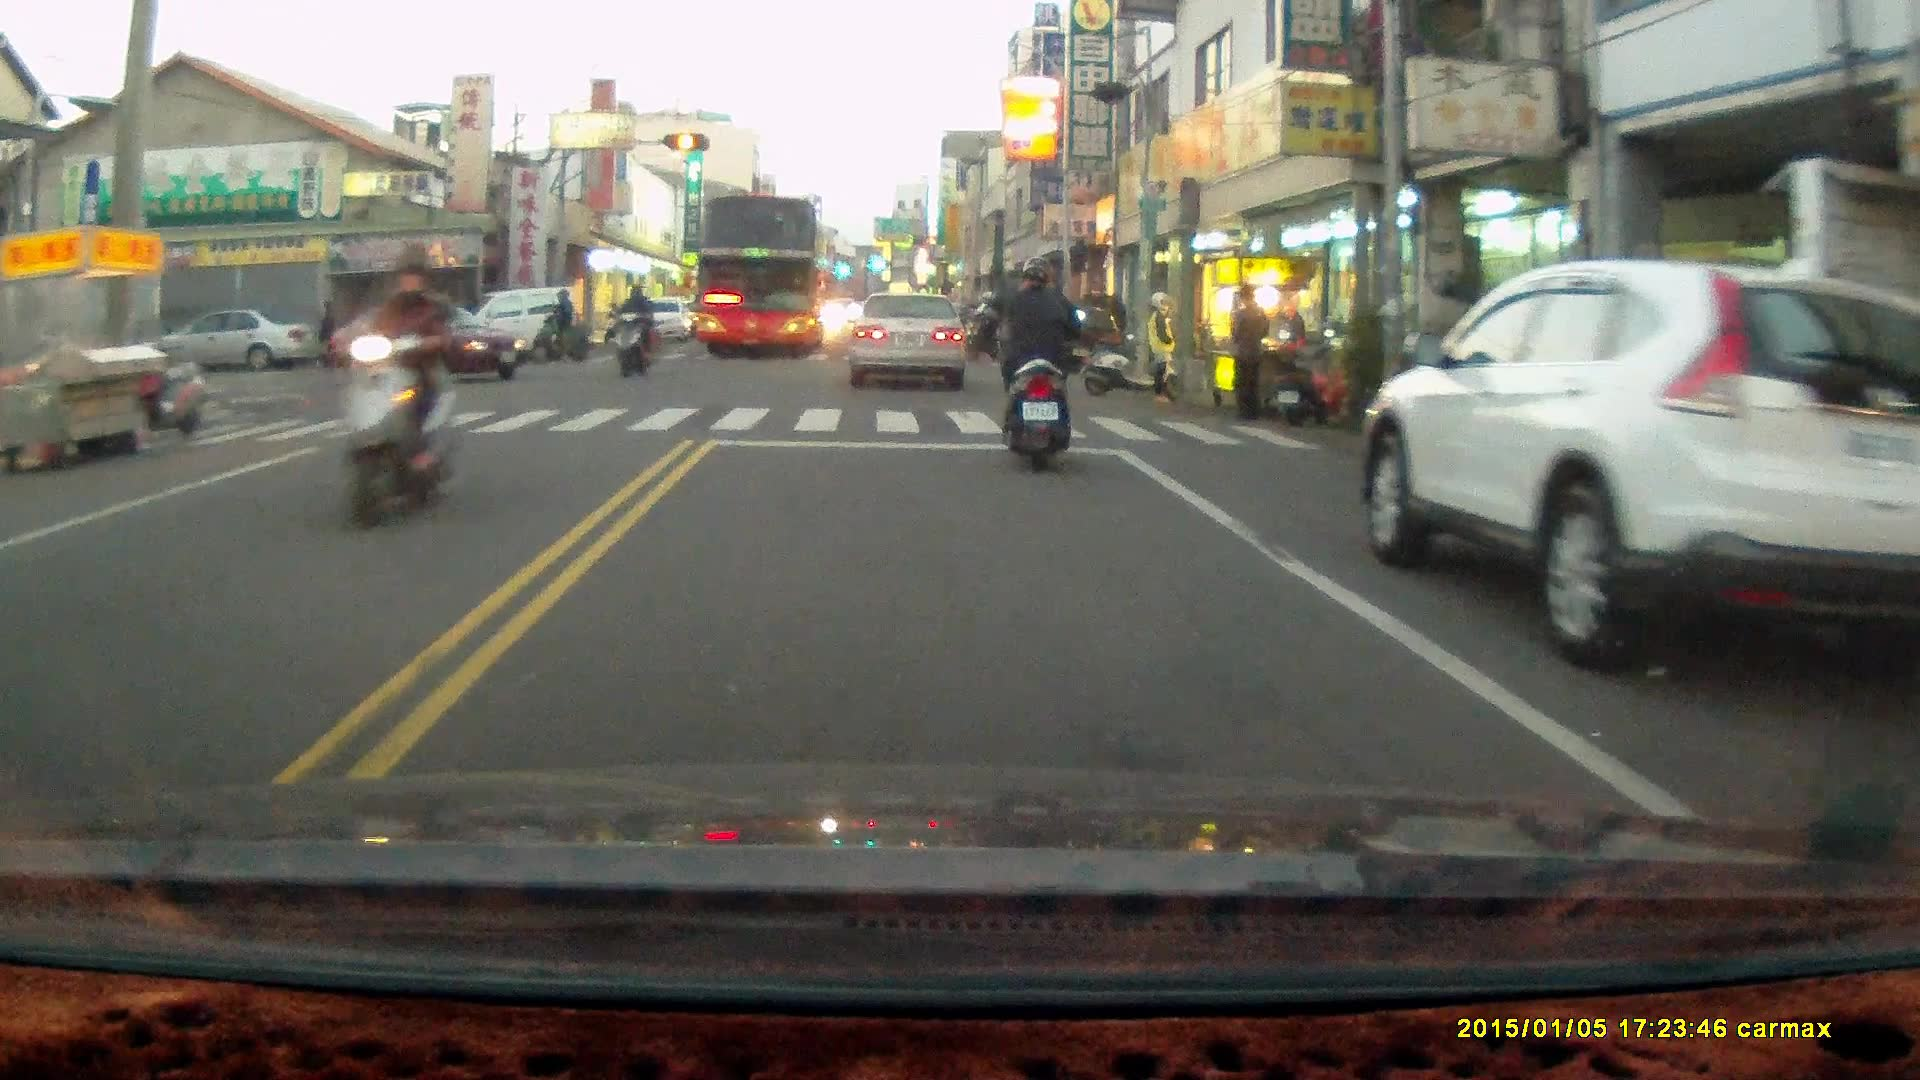pedestrian: (1228, 282, 1268, 426), (1142, 288, 1179, 406), (314, 296, 338, 368)
rider: (315, 236, 461, 531), (987, 255, 1086, 471), (529, 285, 590, 363), (961, 286, 1014, 365), (612, 281, 656, 375)
vehicle: (1359, 255, 1909, 677), (688, 196, 829, 365), (333, 300, 523, 383), (443, 283, 588, 374), (849, 289, 971, 389), (139, 311, 302, 375)
